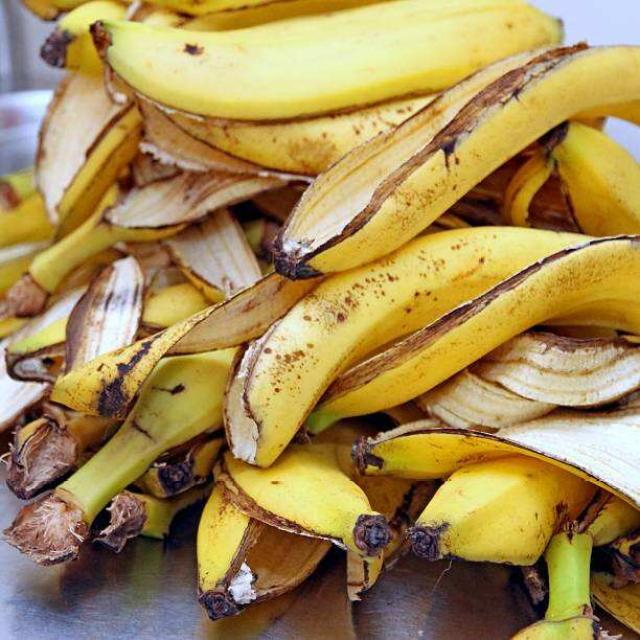banana_peel: (16, 220, 639, 475), (254, 21, 637, 280)
